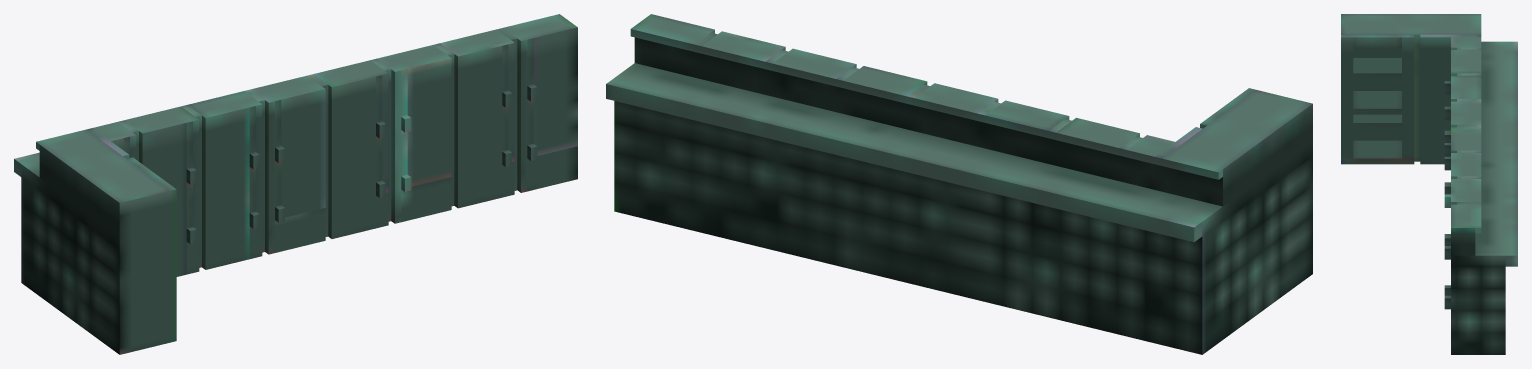
The model's file is Bar_00.fbx.
3 renders of one model, left to right at view 1: azimuth 30°, elevation 25°; view 2: azimuth 150°, elevation 25°; view 3: azimuth 270°, elevation 25°, orthographic. The views are drawn at different scales.
Visible parts, largest first — view 1: Bar_00; view 2: Bar_00; view 3: Bar_00.
Boxes of the visible parts, x1,y1,x2,y2 form: Bar_00: (14, 14, 577, 354); Bar_00: (606, 14, 1312, 354); Bar_00: (1341, 14, 1517, 354).
Size of the model in its own units: 415 by 115 by 145.
